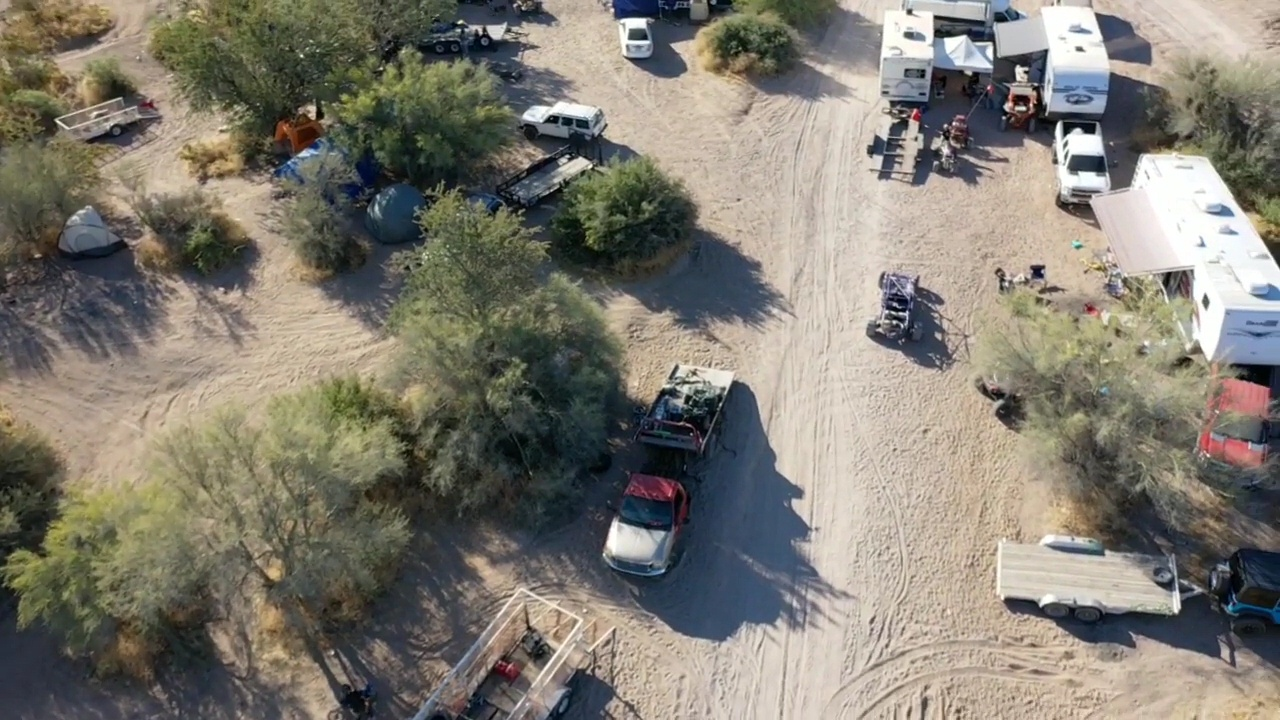araba: (1188, 374, 1277, 484), (519, 96, 611, 143), (612, 15, 660, 63)
kamyonet: (596, 358, 737, 581), (1049, 114, 1115, 207)
